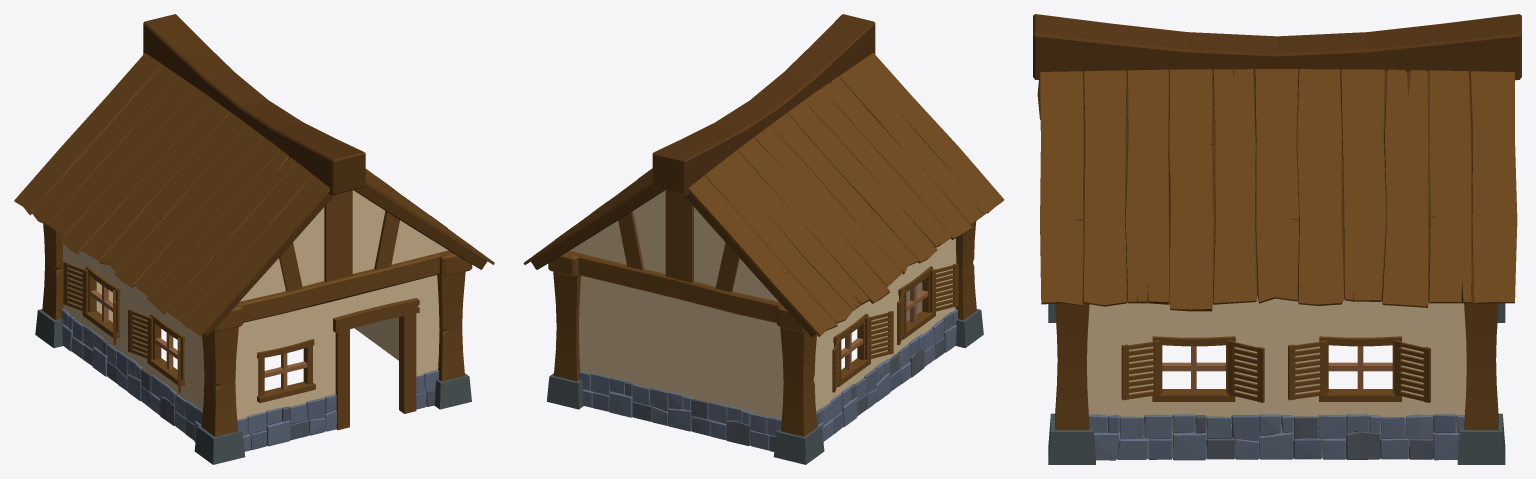
The model's file is House_02.fbx.
The picture shows the model from 3 angles, left to right: view 1: azimuth 30°, elevation 25°; view 2: azimuth 150°, elevation 25°; view 3: azimuth 270°, elevation 25°; orthographic projection. The views are drawn at different scales.
Visible parts, largest first — view 1: House_02; view 2: House_02; view 3: House_02.
Part boxes in pixels (x1,y1,x2,y2): House_02: (14,14,494,464); House_02: (523,14,1004,464); House_02: (1033,14,1521,464).
Size of the model in its own units: 614 by 542 by 665.
